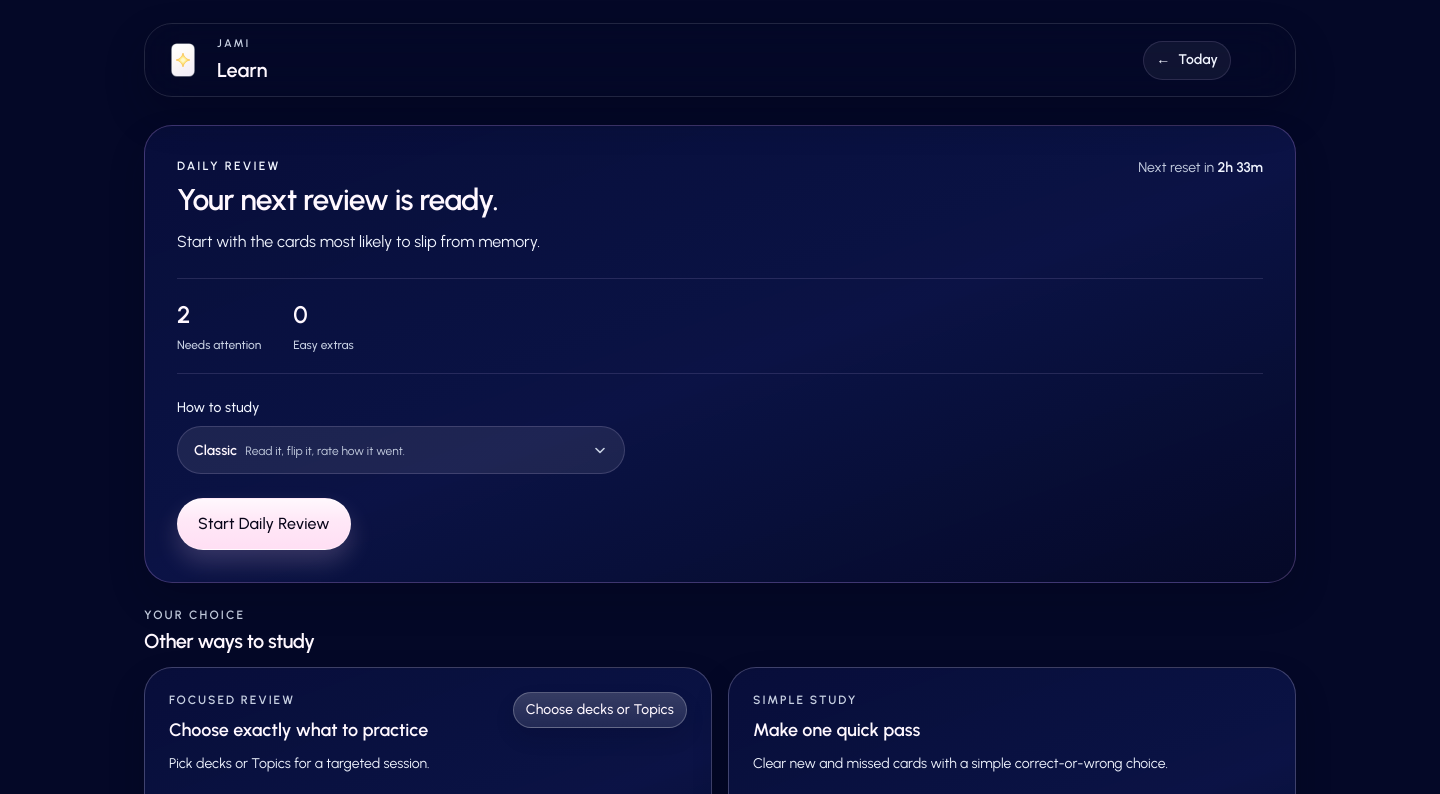
Test: the answer-first modes › brings a ready card forward rather than waiting on one still being written
The width and height of the screenshot is (1440, 794).
Click the button that starts with "Classic".
click(401, 450)  # box [177,426,625,474]
(page scrolled)
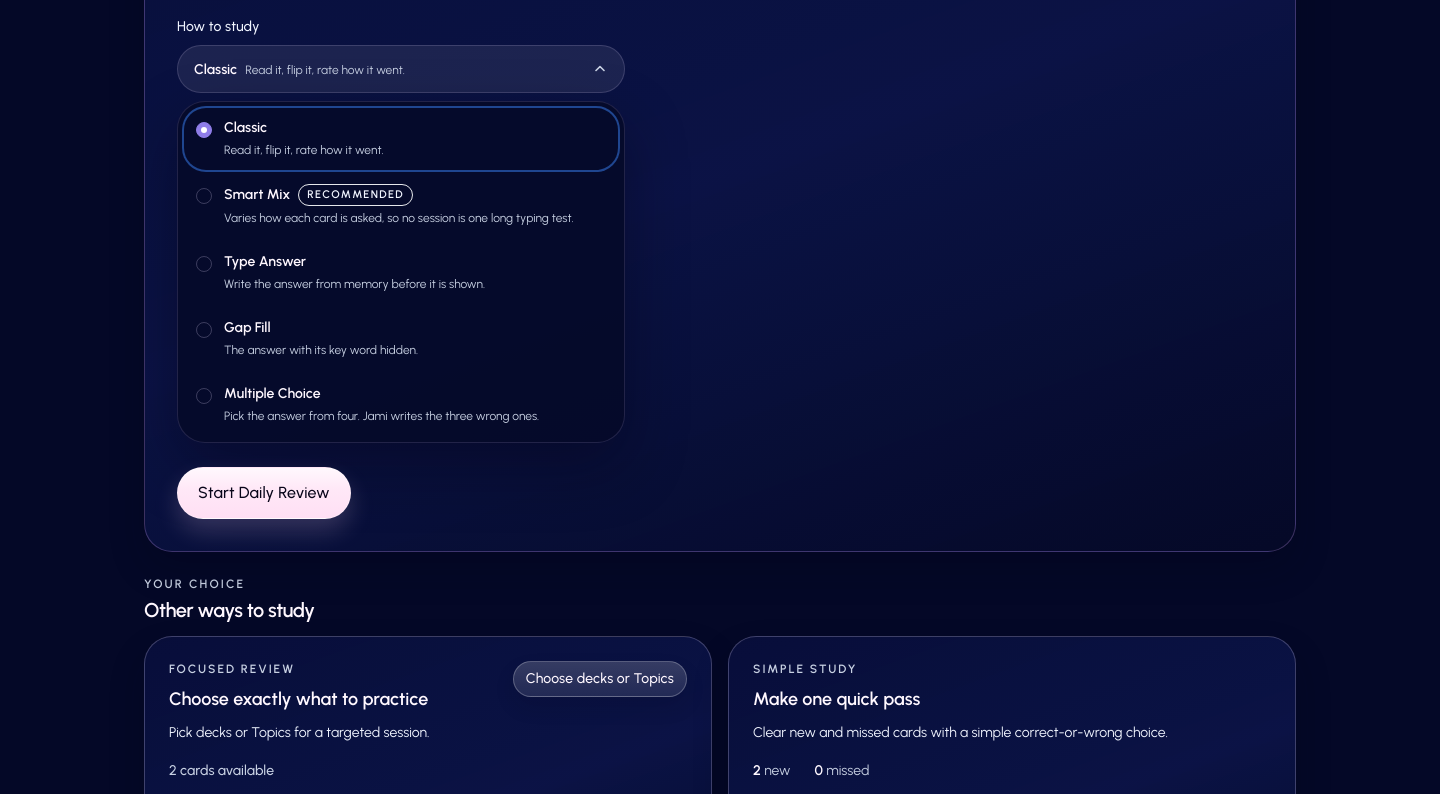
expect the option that starts with "Multiple Choice" is shown: met
Click the option that starts with "Multiple Choice".
click(272, 394)  # box [184,374,618,436]
(page scrolled)
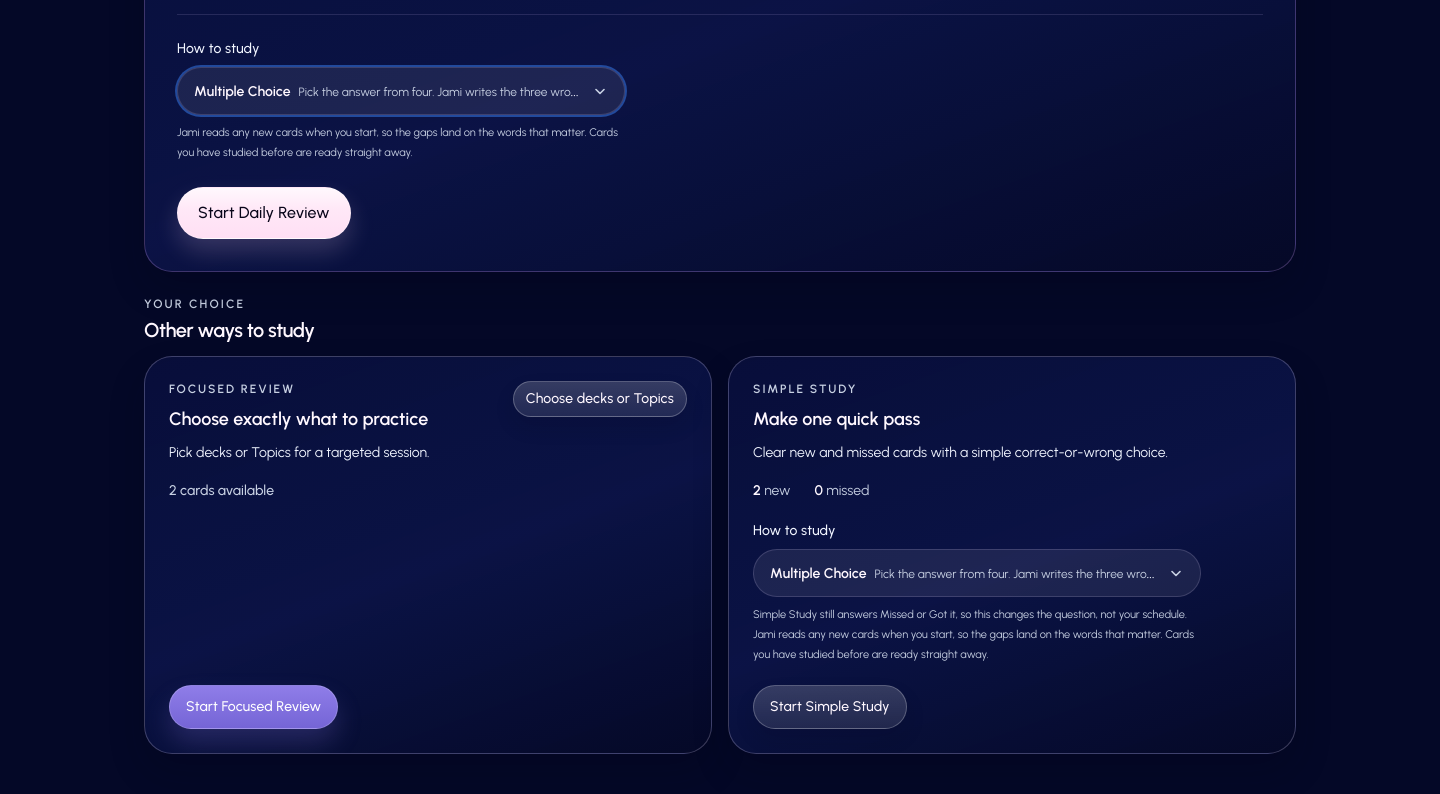
expect the button below "Needs attention" is collapsed: met, box [177,67,625,115]
Click the button "Start Daily Review".
click(264, 213)  # box [177,187,351,239]
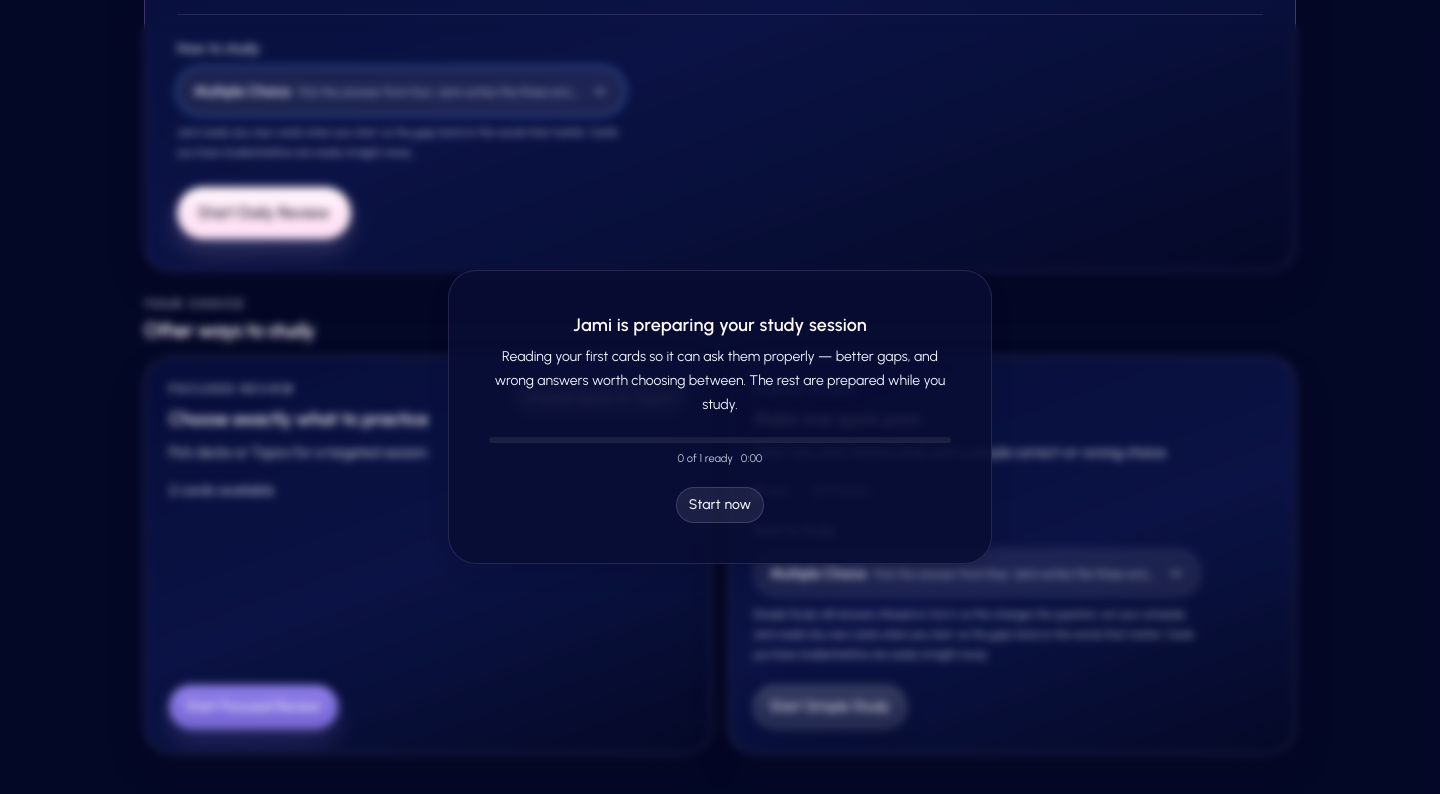
expect the button "Start now" is shown: met
Click the button "Start now".
click(720, 505)  # box [676,487,764,523]
(page scrolled)
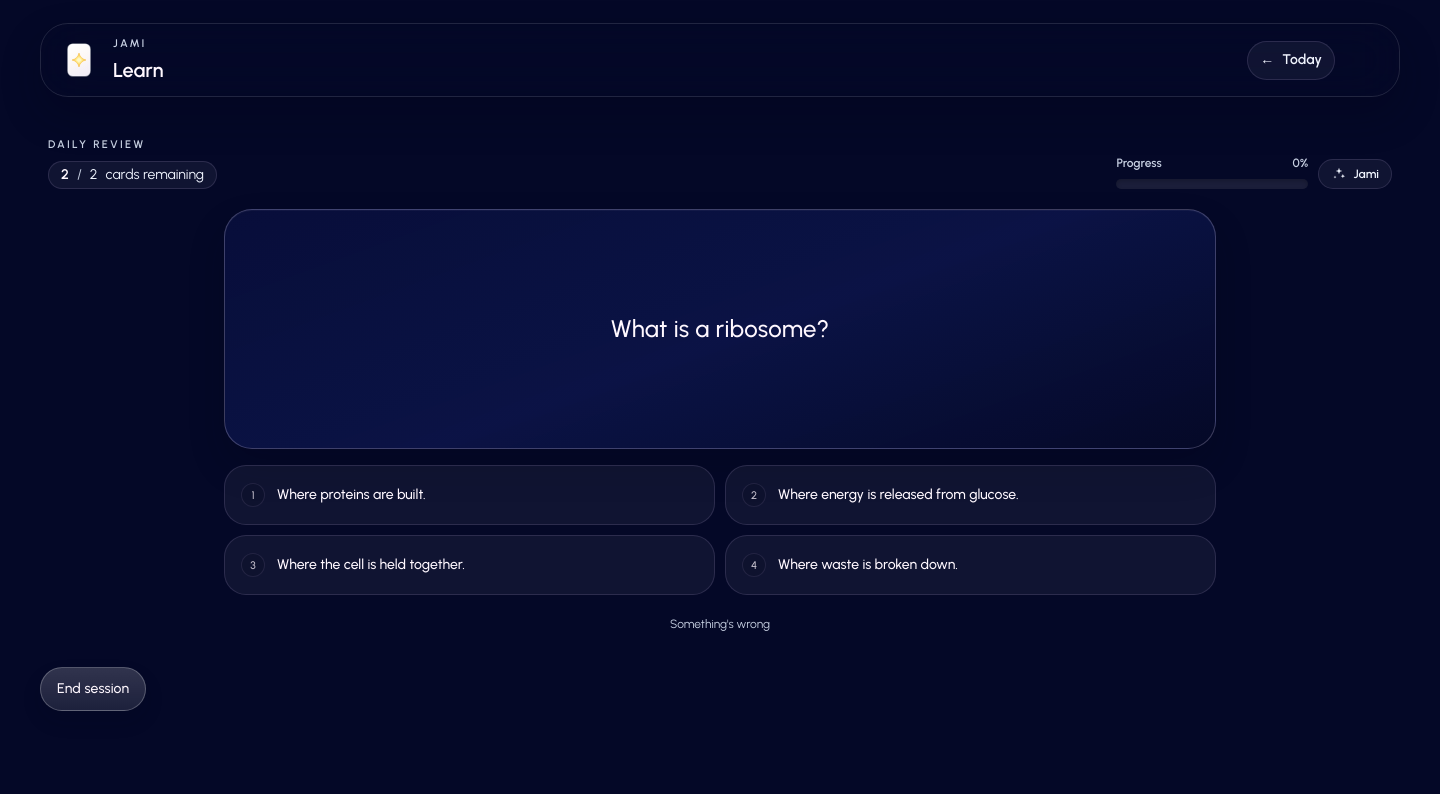
expect the text "Where waste is broken down." is shown: met, box [778,556,958,573]
